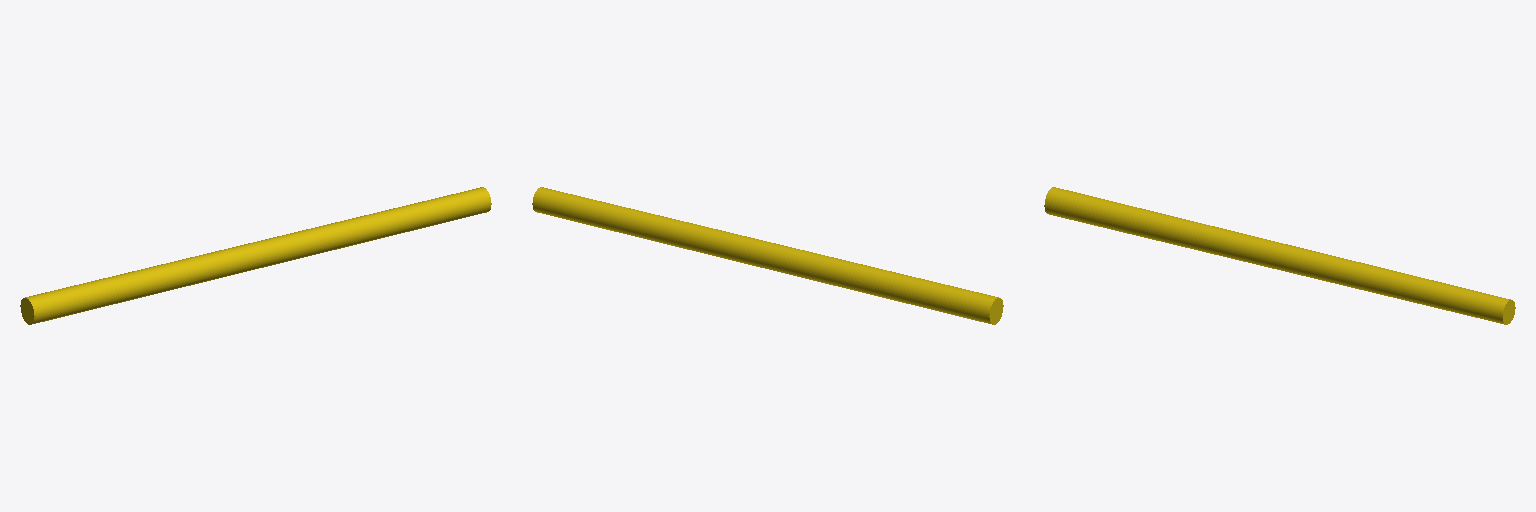
The robot description file, URDF, robot "cb_chopstick_t45rd075":
<?xml version="1.0"?>
<!-- ContactBench chopstick. Generated by FoundationTouch tools/contactbench/make_contactbench_assets.py -->
<robot name="cb_chopstick_t45rd075">
  <material name="c"><color rgba="0.85 0.75 0.10 1.0"/></material>
  <link name="object">
    <visual><origin xyz="0 0 0" rpy="0 0 0"/><geometry><mesh filename="chopstick.obj" scale="1 1 1"/></geometry><material name="c"/></visual>
    <collision><origin xyz="0 0 0" rpy="0 0 0"/><geometry><mesh filename="coll_00.obj" scale="1 1 1"/></geometry></collision>
    <inertial><mass value="5.416982e-04"/><origin xyz="0 0 0" rpy="0 0 0"/><inertia ixx="8.619329e-10" ixy="1.576852e-14" ixz="-7.834993e-27" iyy="2.211902e-07" iyz="1.305832e-27" izz="2.211902e-07"/></inertial>
  </link>
</robot>

--- Render facts (derived) ---
Views: 3 orthographic renders of the robot side by side, from view 1: azimuth 30°, elevation 25°; view 2: azimuth 150°, elevation 25°; view 3: azimuth 330°, elevation 25°.
Model cb_chopstick_t45rd075 with 1 links and 0 joints (none), rooted at object, posed all joints at 0.
Visible links, largest first — view 1: object; view 2: object; view 3: object.
Link boxes in pixels (bbox=[...]): object: bbox=[20, 187, 491, 324]; object: bbox=[532, 187, 1003, 324]; object: bbox=[1044, 187, 1515, 324].
Size in the robot's own frame: 0.07 by 0.0037 by 0.0037 metres.
Meshes: 1 distinct files referenced, 1 mesh visuals loaded (1 OBJ).
